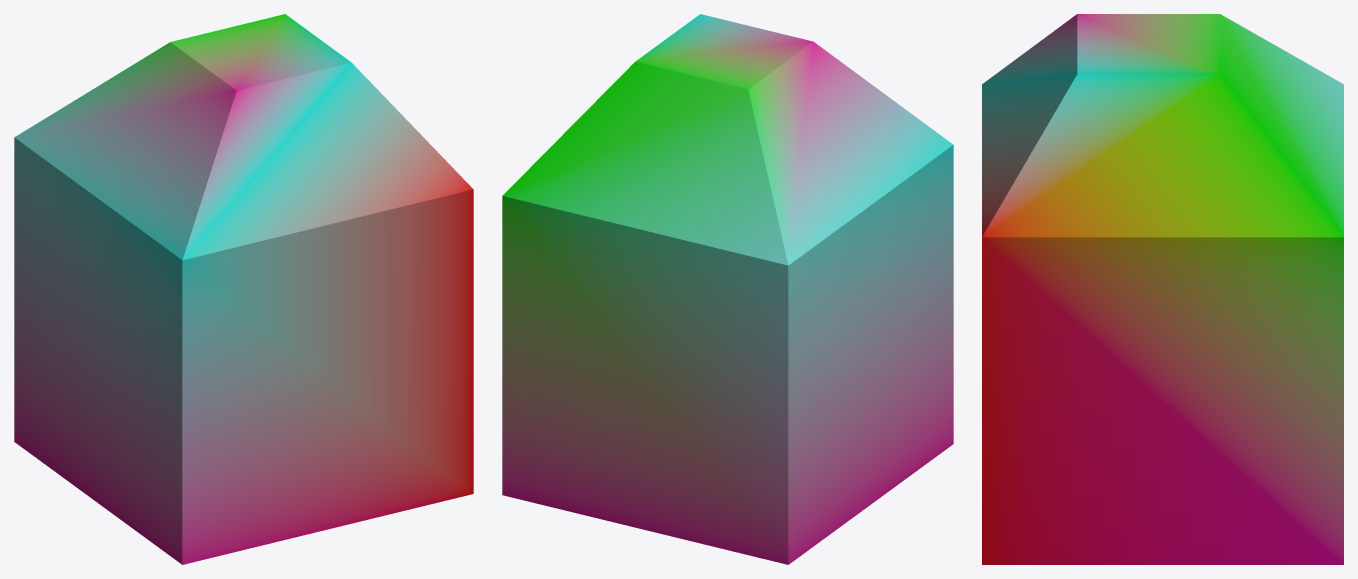
File: VertexColouredHouse.fbx
3 renders of one model, left to right at view 1: azimuth 30°, elevation 25°; view 2: azimuth 150°, elevation 25°; view 3: azimuth 270°, elevation 25°, orthographic. The views are drawn at different scales.
Parts seen in each view (by area): view 1: Cube; view 2: Cube; view 3: Cube.
Boxes of the visible parts, x1,y1,x2,y2 form: Cube: (14, 14, 473, 564); Cube: (502, 14, 953, 564); Cube: (982, 14, 1343, 564).
Bounding box in the file's own units: 200 × 274 × 200.
